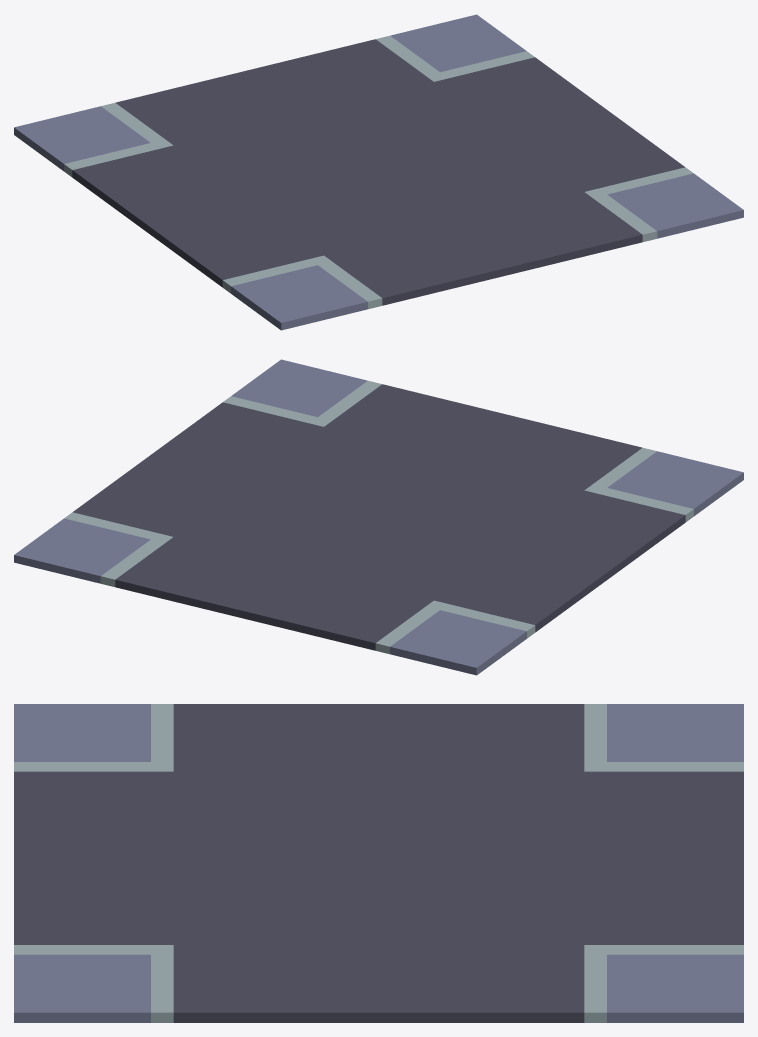
The model's file is Ground_001.obj.
3 renders of one model, top to bottom at view 1: azimuth 30°, elevation 25°; view 2: azimuth 150°, elevation 25°; view 3: azimuth 270°, elevation 25°, orthographic. The views are drawn at different scales.
Bounding box in the file's own units: 6.4 × 0.1 × 6.4.
1 material, 1 textured.
